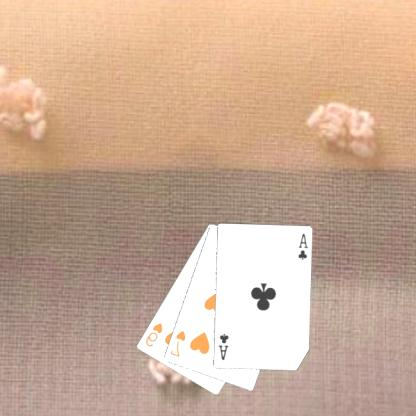6H: (144, 320, 166, 348)
7H: (169, 328, 189, 358)
AC: (296, 231, 311, 262), (217, 331, 232, 361)
